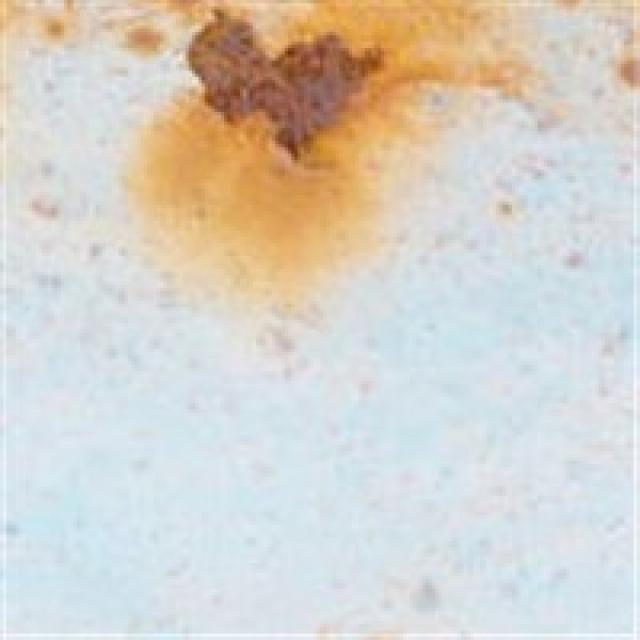Corrosion: (140, 0, 519, 260), (188, 10, 381, 156)
